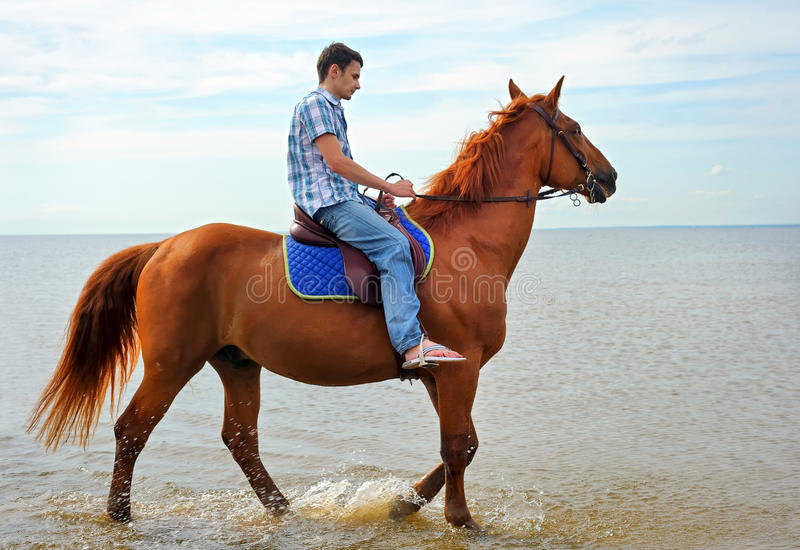Horse: (60, 86, 614, 526)
Person: (257, 29, 467, 365)
